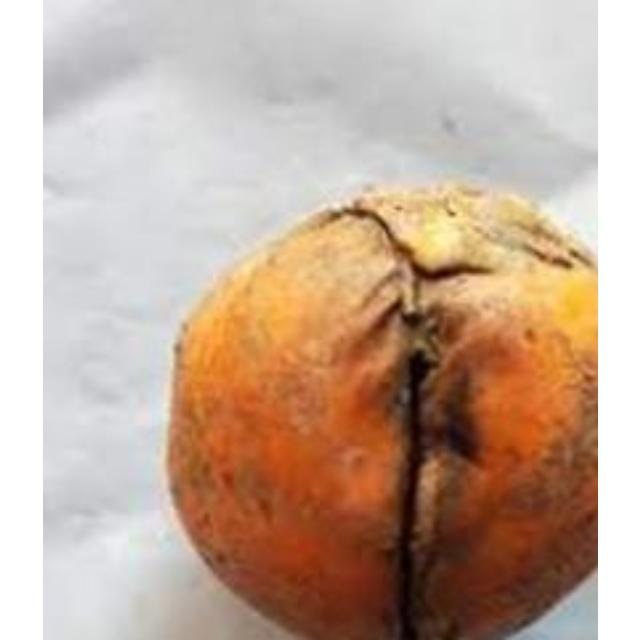damaged: (162, 183, 594, 637)
